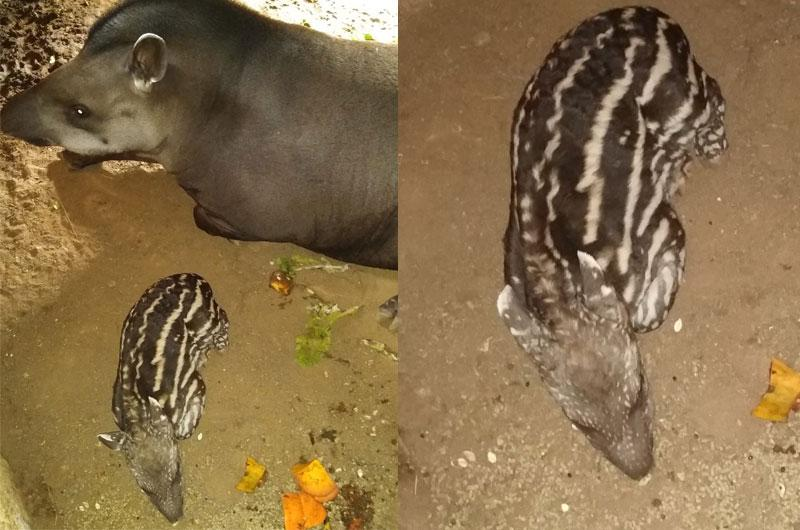Anta: (488, 6, 739, 492), (9, 4, 393, 267), (89, 269, 238, 522)
